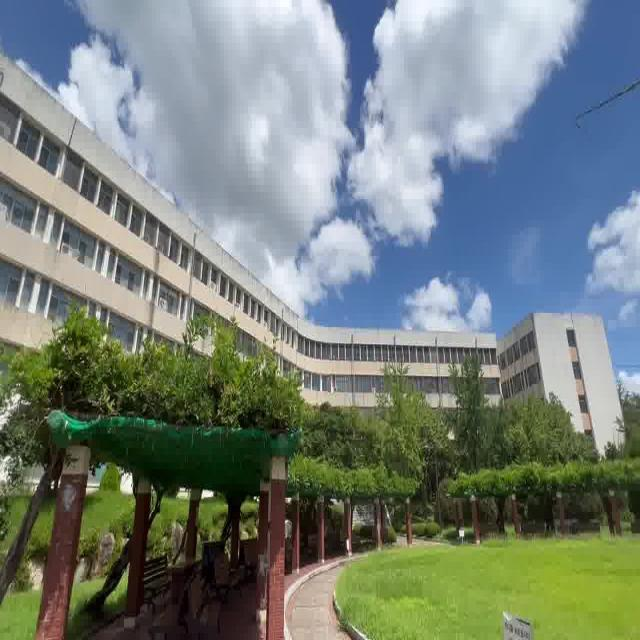building: (290, 313, 614, 398)
